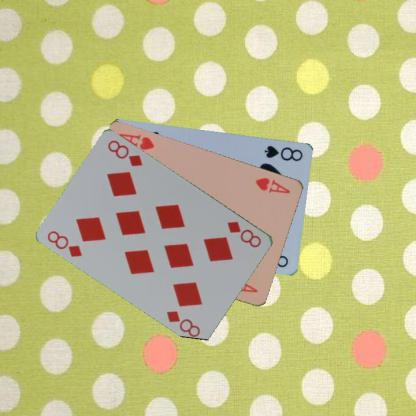8d: (225, 218, 263, 249), (45, 228, 84, 258)
8s: (262, 143, 304, 163)
Ah: (253, 174, 292, 194)
